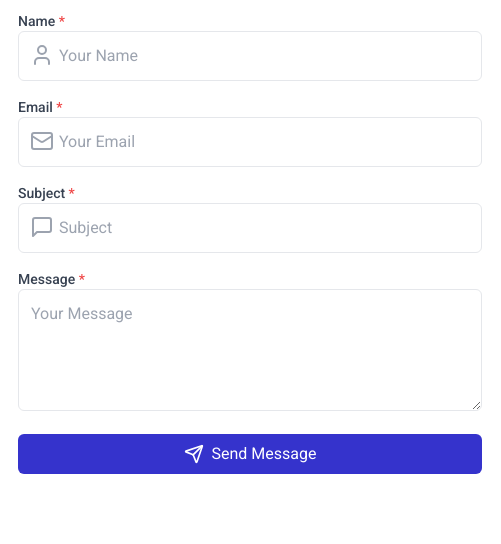
it: EmailForm Component › shows error message on API failure
Step 1. Type "Chris" into the field labelled "Name *" → (250, 56), box [18,31,482,81]
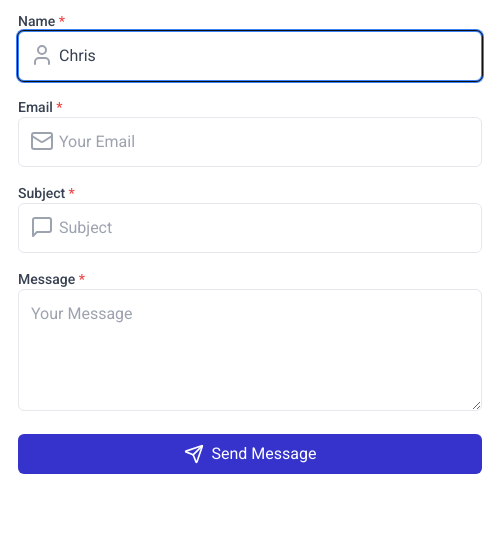
Step 2. Type "chris@example.com" into the field labelled "Email *" → (250, 142), box [18,117,482,167]
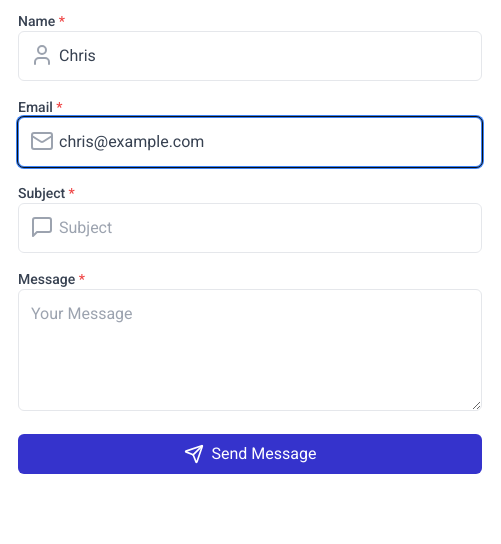
Step 3. Type "Error test" into the field labelled "Subject *" → (250, 228), box [18,203,482,253]
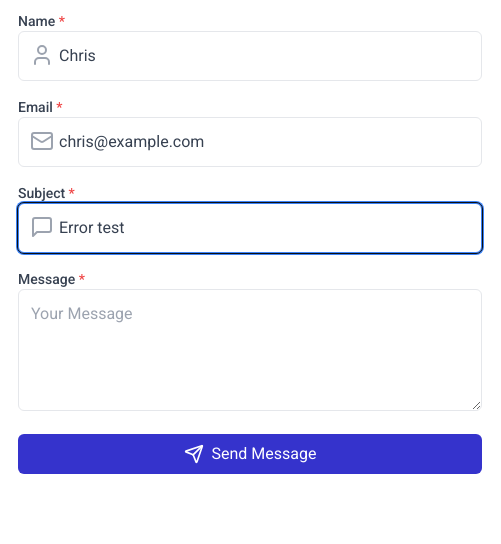
Step 4. Type "This should fail" into the text box labelled "Message *" → (250, 350), box [18,289,482,411]
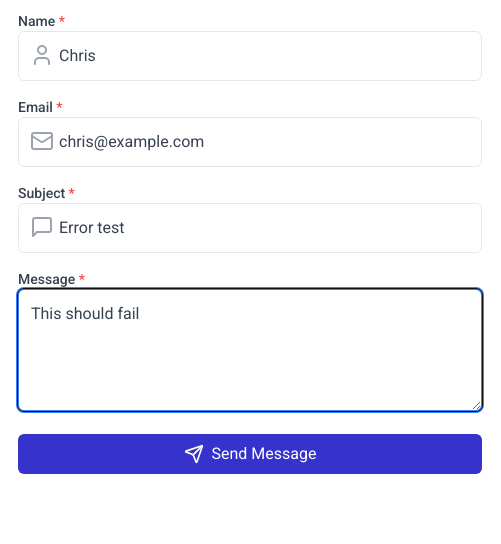
Step 5. Click the button "Send Message" → (250, 454), box [18,434,482,474]
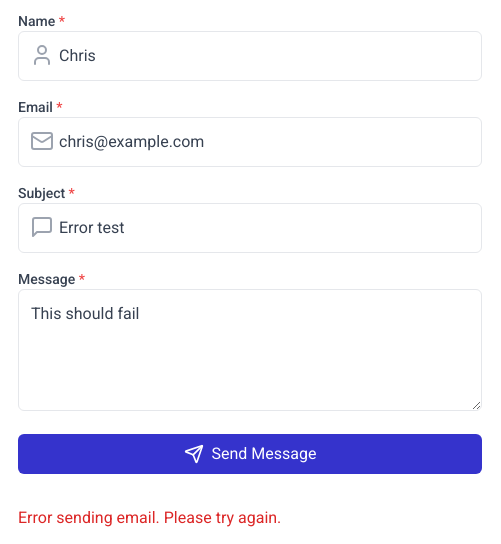
Now the text "Error sending email. Please try again." is shown, box [18,508,281,527]
